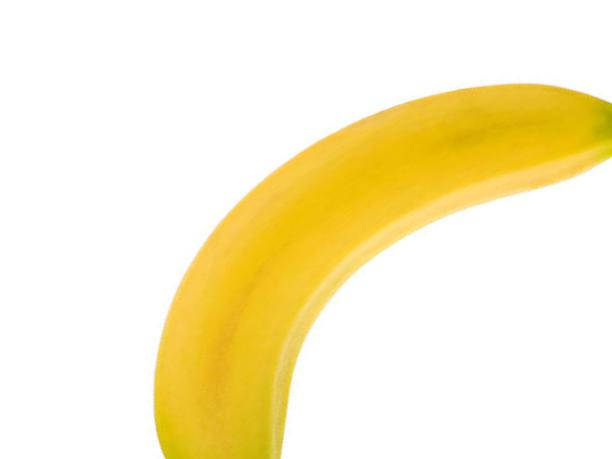banana: (150, 81, 612, 458)
